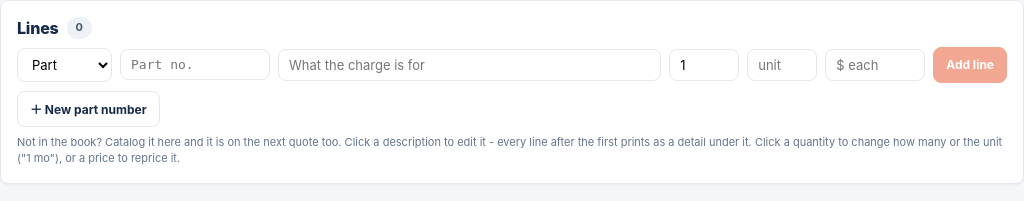
Test: finding a part while building a quote › shows what it would be quoted at, not what the shop pays for it
Type "G6303" into the field named "Part number". click: {"x": 195, "y": 65}
box: [120,49,270,80]
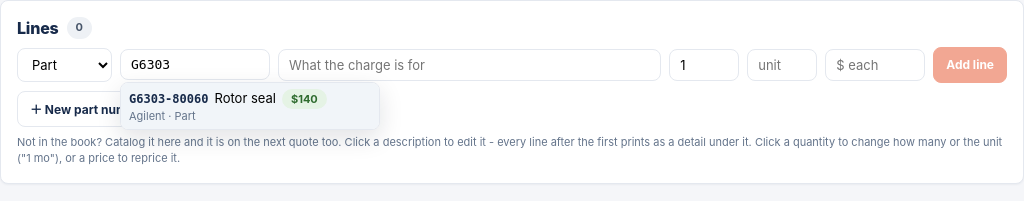
Check: the option "G6303-80060 Rotor seal $140 Agilent · Part" is shown, box [121,83,379,129]
